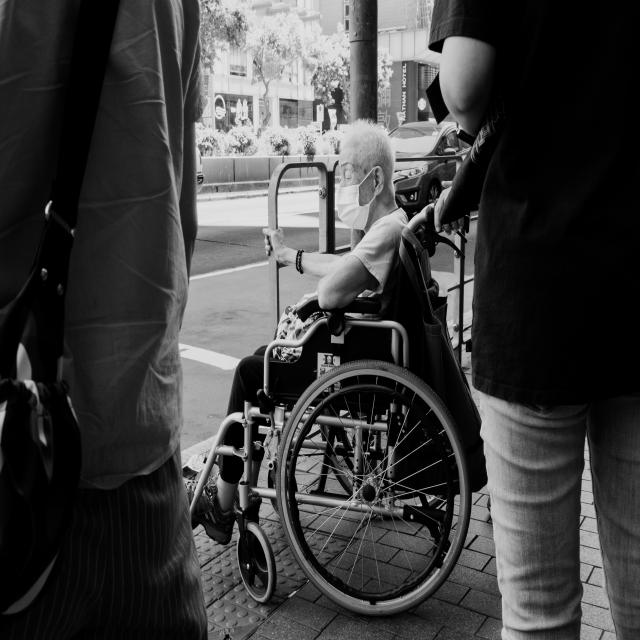wheelchairs: (180, 205, 480, 612)
